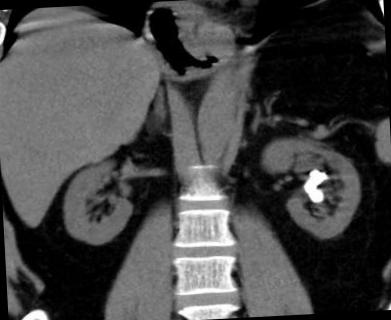Tas_Var: (302, 166, 332, 205)
